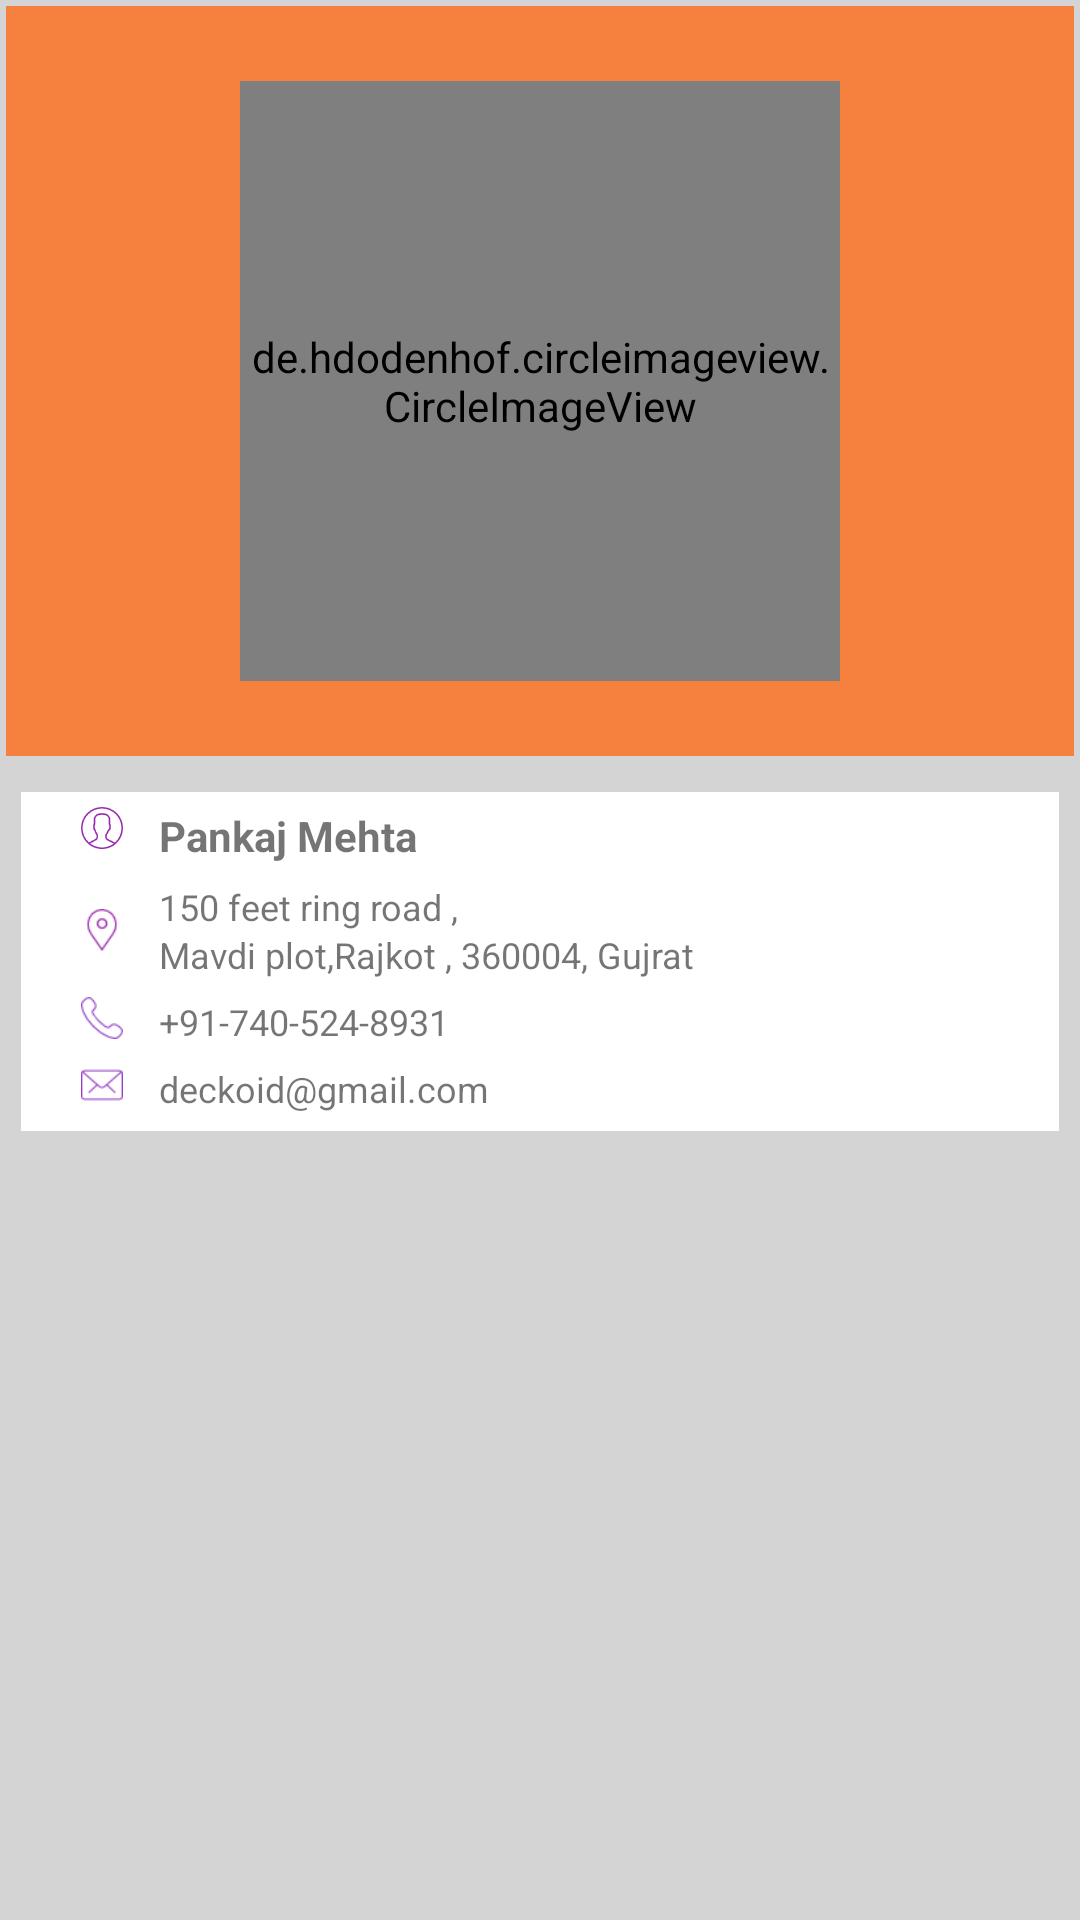

Icon click points for this 1080px x 1920px phone screenshot, format point (x, y):
contact no: point (102, 1018)
email: point (102, 1085)
location: point (102, 930)
user: point (102, 828)
